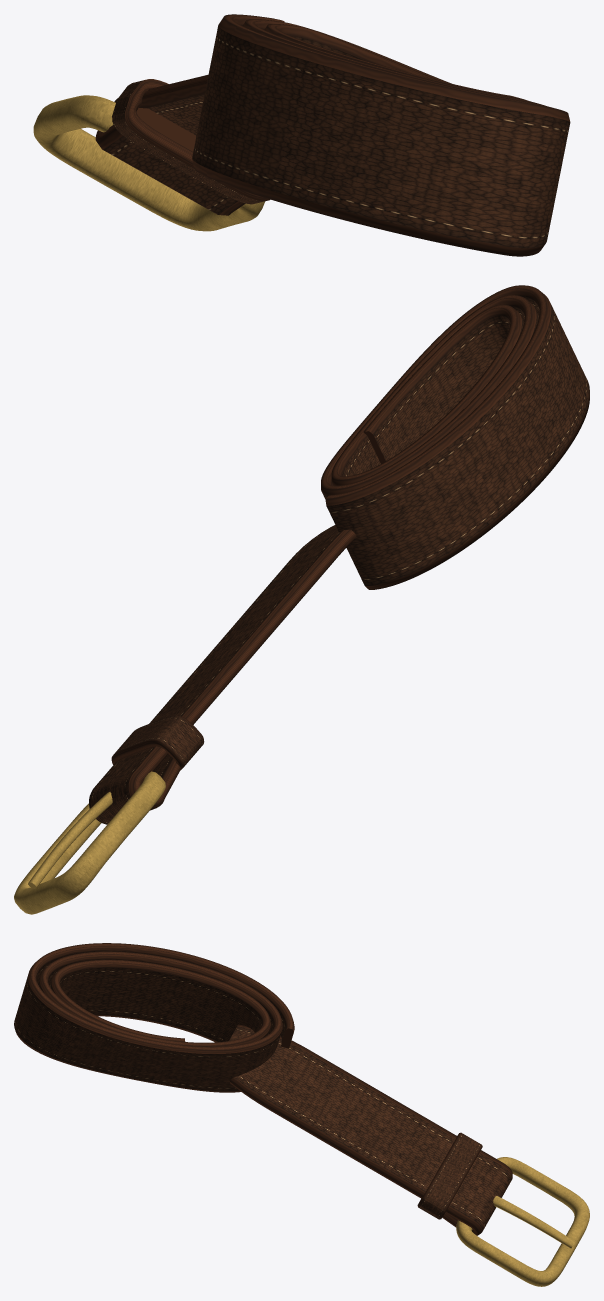
File: weapon_belt_90s.glb
3 views of the same model, one above another, from view 1: azimuth 30°, elevation 25°; view 2: azimuth 150°, elevation 25°; view 3: azimuth 270°, elevation 25° (orthographic). The views are drawn at different scales.
Parts seen in each view (by area): view 1: WeaponBelt90s; view 2: WeaponBelt90s; view 3: WeaponBelt90s.
Boxes of the visible parts, x1=… form: WeaponBelt90s: x1=33, y1=14, x2=570, y2=256; WeaponBelt90s: x1=14, y1=285, x2=589, y2=914; WeaponBelt90s: x1=14, y1=943, x2=589, y2=1286.
Bounding box in the file's own units: 0.0932 × 0.1395 × 0.2613.
Materials: 2 (2 with a texture image).
